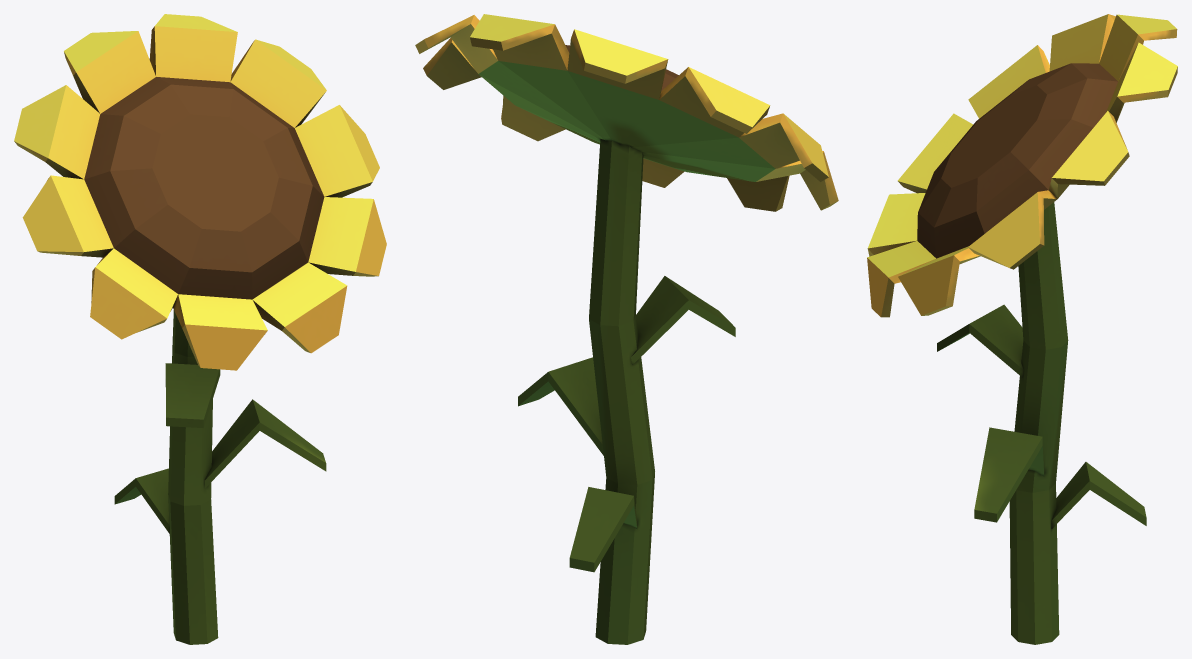
File: sunflower-plant.glb
The picture shows the model from 3 angles, left to right: view 1: azimuth 30°, elevation 25°; view 2: azimuth 150°, elevation 25°; view 3: azimuth 270°, elevation 25°; orthographic projection. The views are drawn at different scales.
Parts seen in each view (by area): view 1: sunflower; view 2: sunflower; view 3: sunflower.
Part boxes in pixels (x1,y1,x2,y2): sunflower: [14, 14, 386, 644]; sunflower: [415, 14, 838, 644]; sunflower: [867, 14, 1177, 644].
Bounding box in the file's own units: 0.628 × 1 × 0.4723.
1 material, 1 textured.
